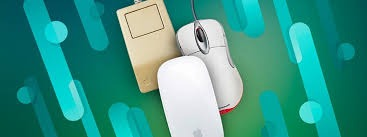mouse: (148, 57, 231, 136), (174, 26, 248, 109)
